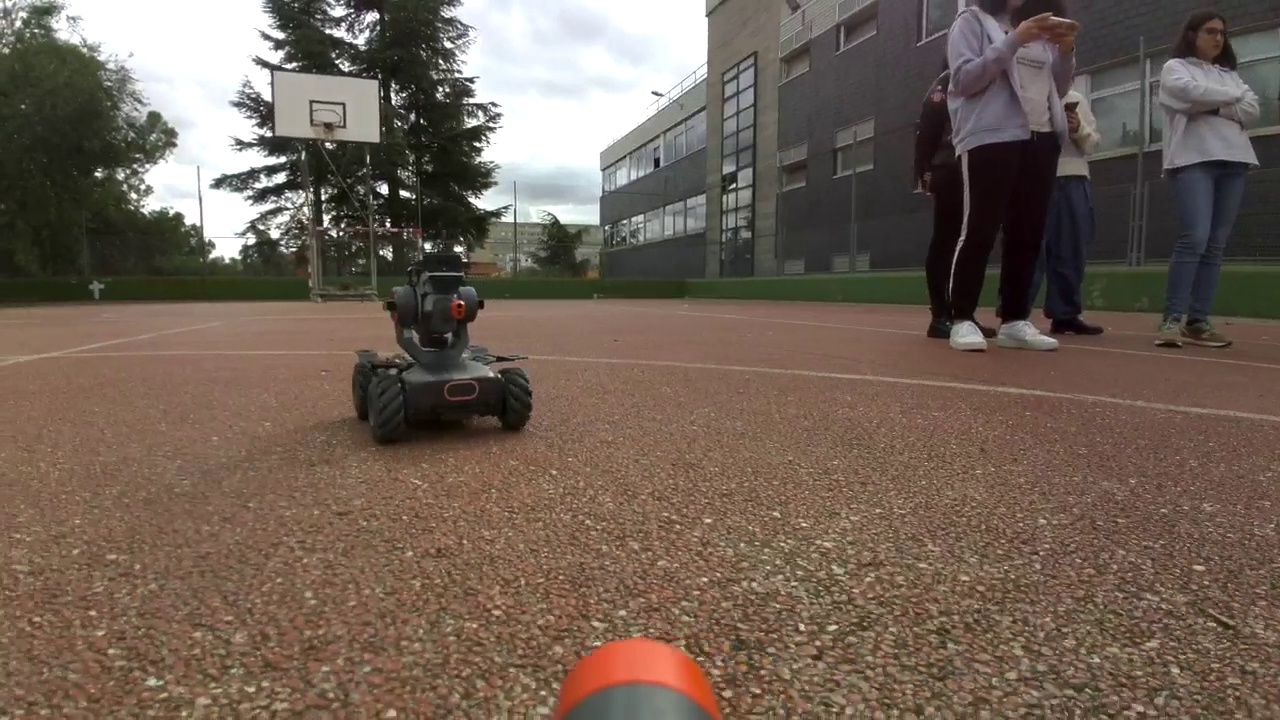robot: (353, 252, 532, 445)
